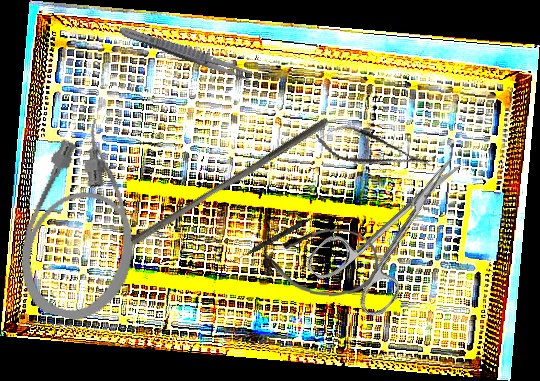Cannula: (6, 108, 166, 331), (259, 223, 381, 300)
Dressing Forceps: (117, 23, 258, 84)
Iris Scissors: (302, 132, 493, 327)
Micro Scissor: (311, 116, 435, 184)
Pusher: (129, 109, 331, 253)
Spatula Surgical: (228, 209, 323, 267)
